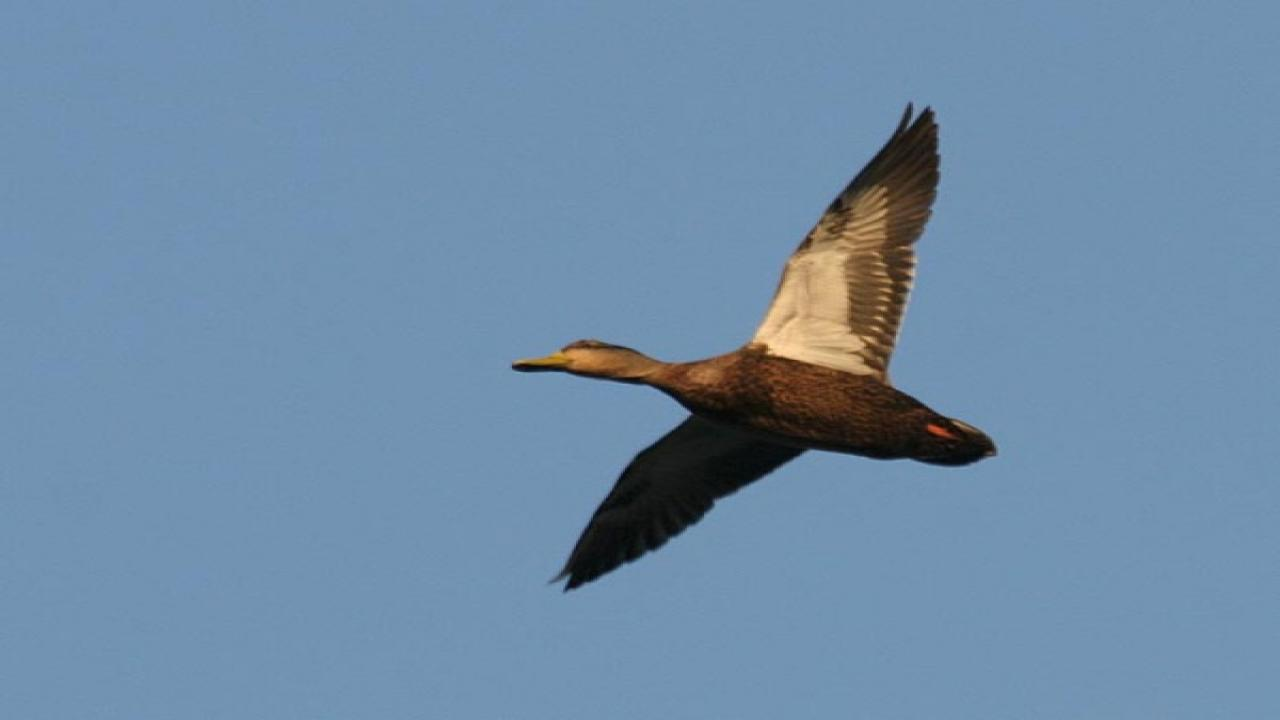Bird: (495, 89, 1008, 598)
